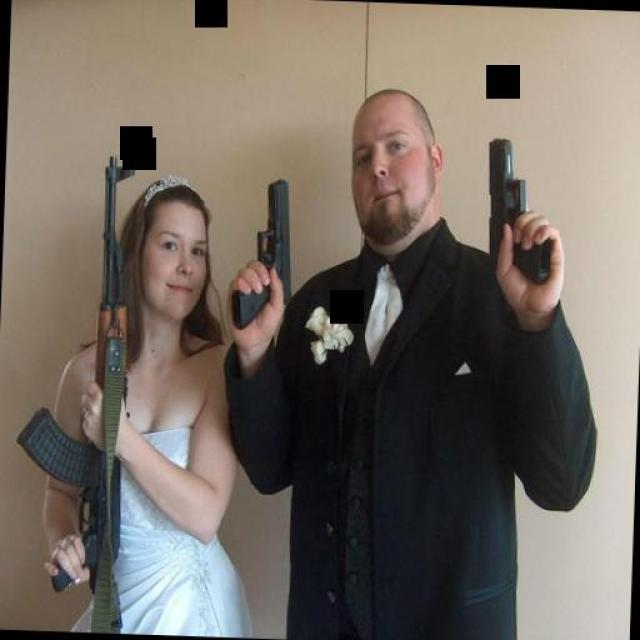gun: (472, 129, 564, 295), (225, 168, 297, 340)
